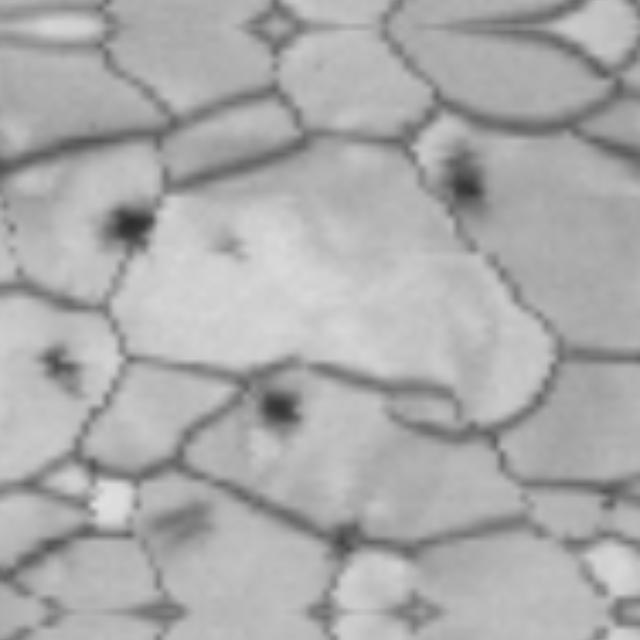good_void: (429, 136, 493, 226), (144, 497, 223, 561), (89, 194, 165, 260), (31, 342, 93, 403), (252, 384, 310, 443), (201, 228, 257, 271), (319, 519, 371, 562), (594, 495, 617, 514)
